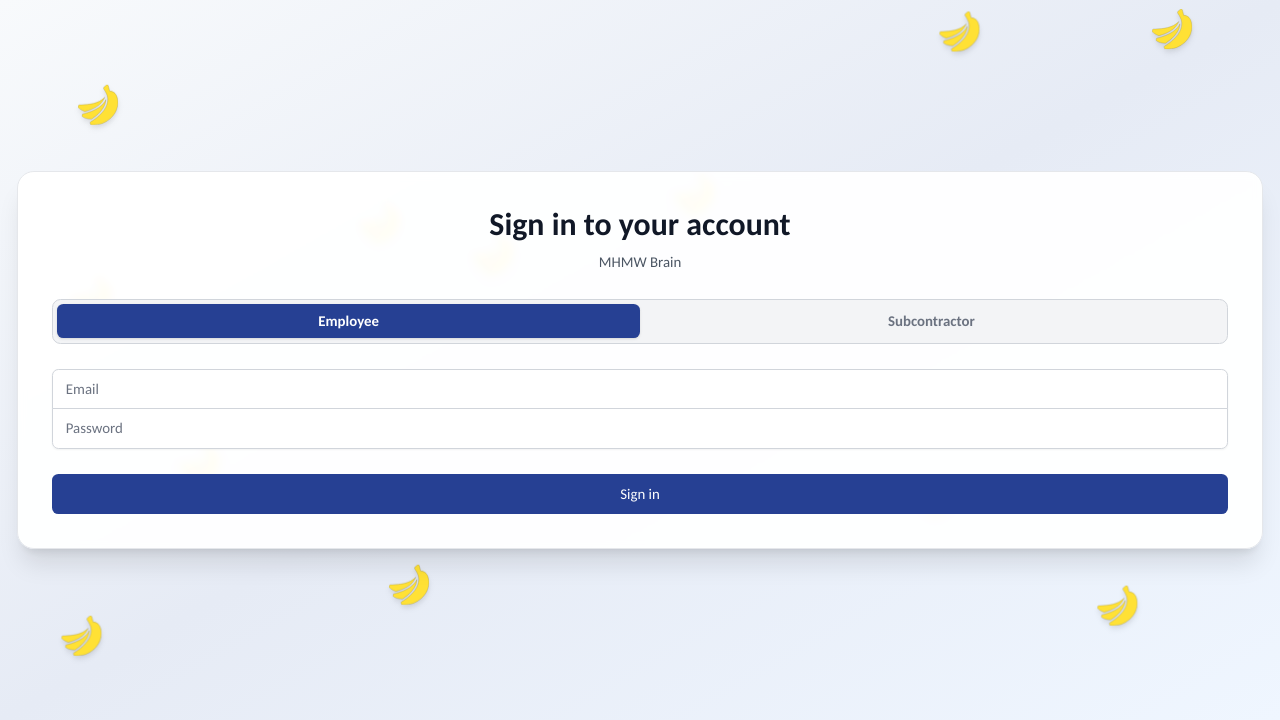
Test: Login page › transitions to set-password step on a genuine first login
The width and height of the screenshot is (1280, 720).
In the field with placeholder "Email": (640, 389) [52,369,1228,409], type "alice@example.com"
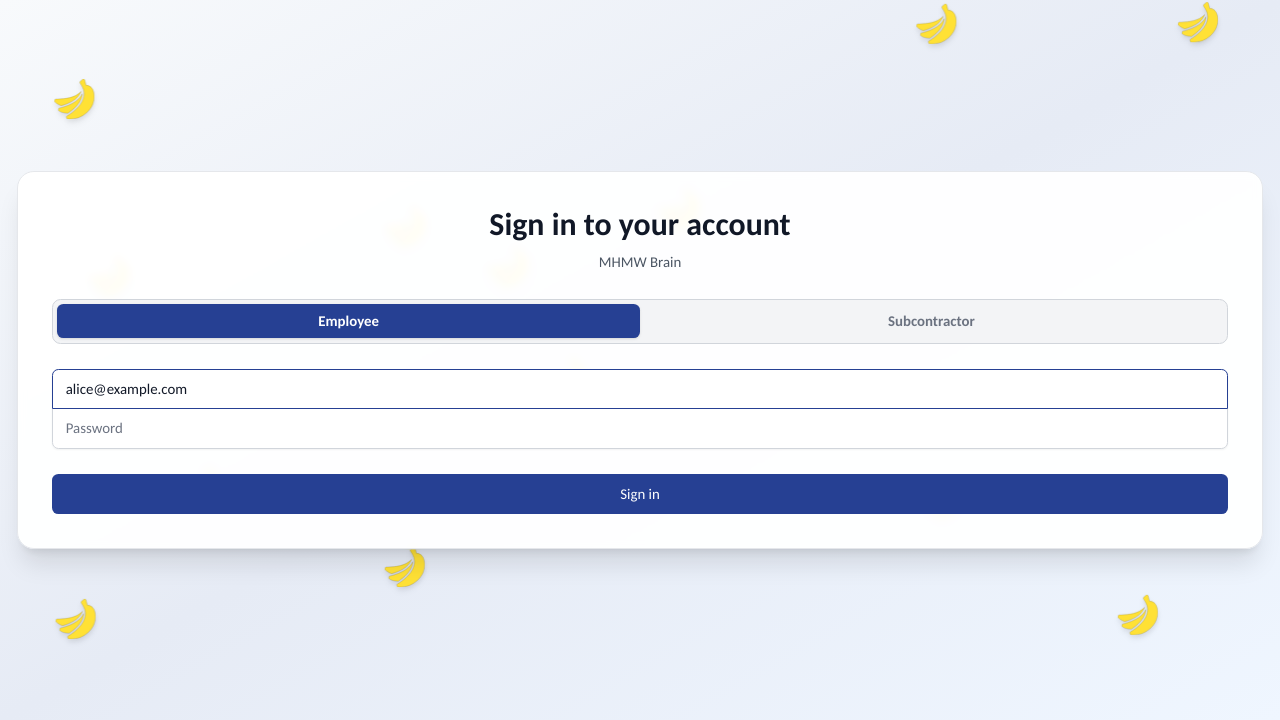
In the password field with placeholder "Password": (640, 429) [52,408,1228,449], type "whatever"
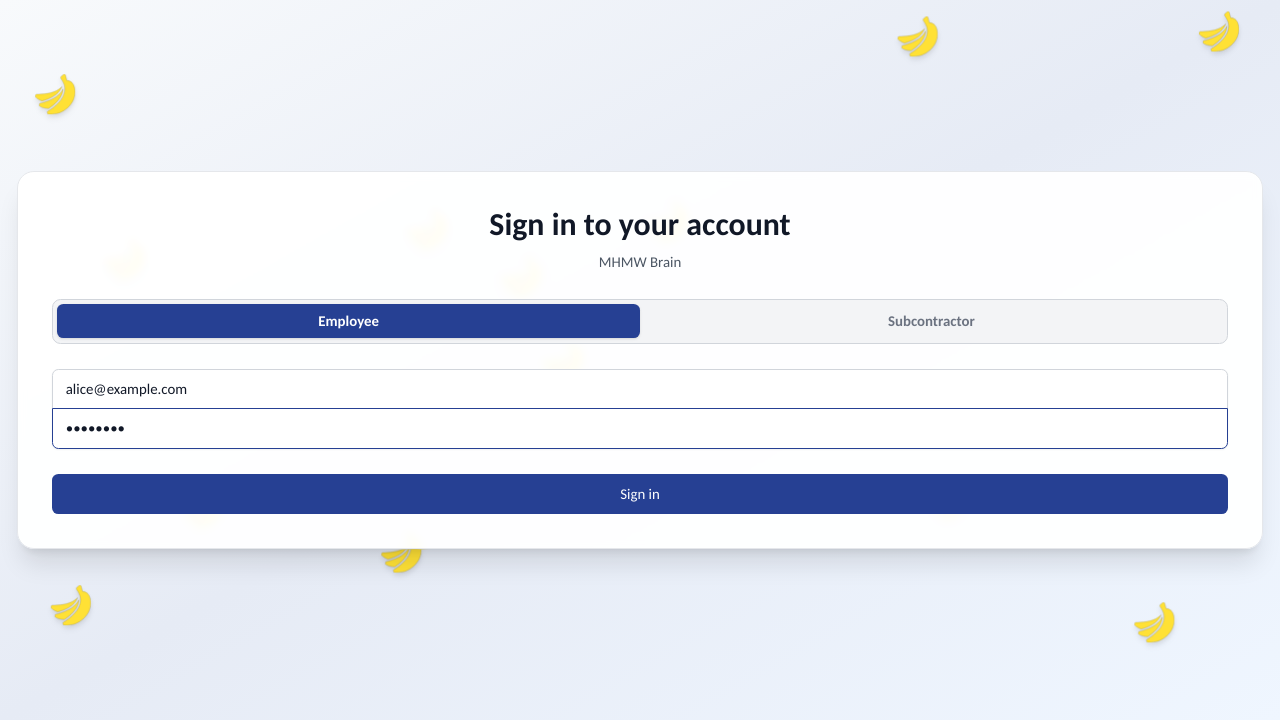
Click the button "Sign in": (640, 494) [52,474,1228,514]
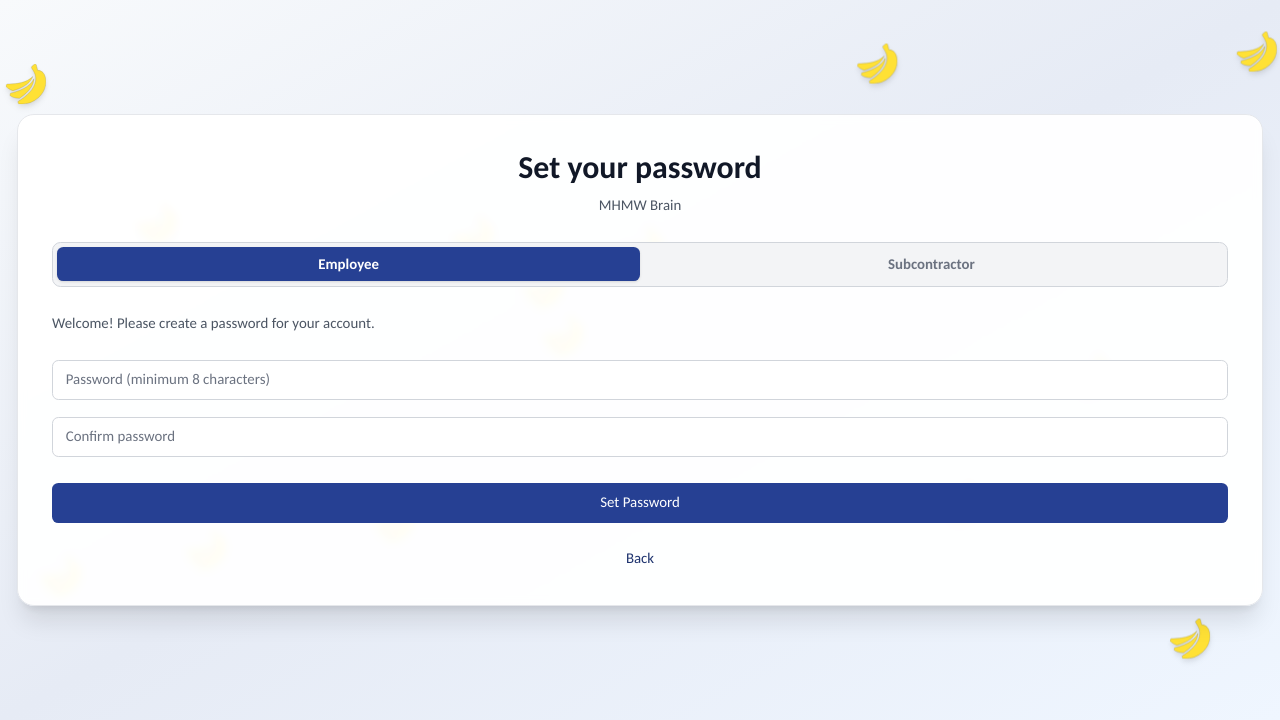
Check: the password field with placeholder "Password (minimum 8 characters)" is shown, box [52,360,1228,400]
